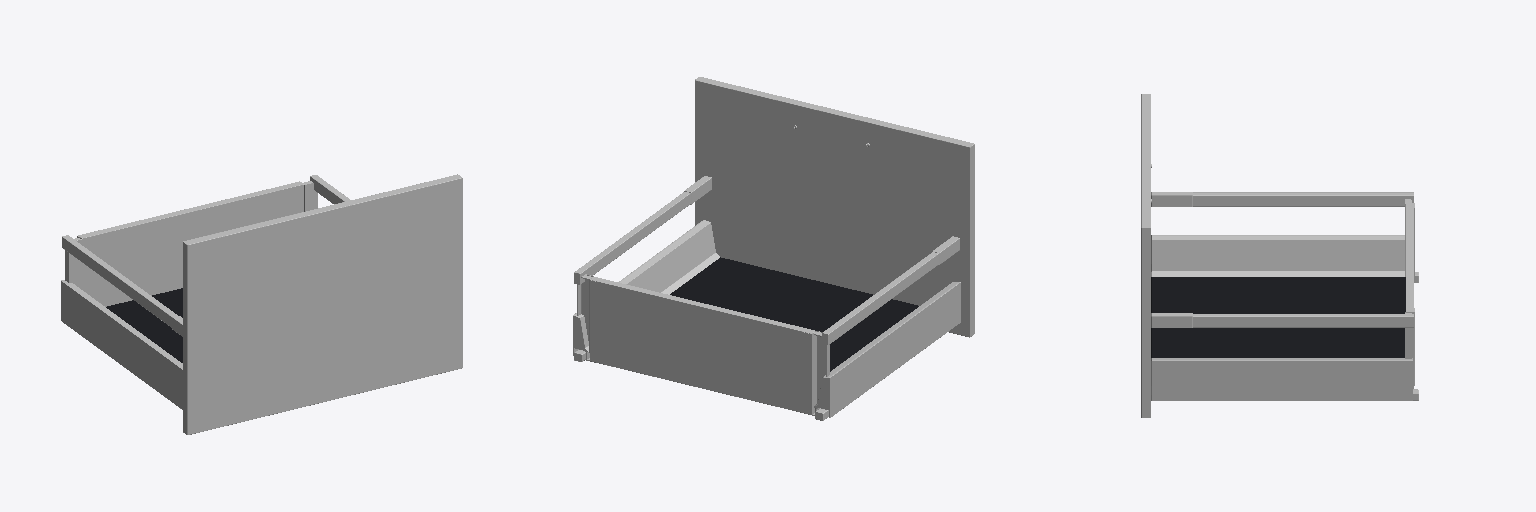
3 views of the same model, side by side, from view 1: azimuth 30°, elevation 25°; view 2: azimuth 150°, elevation 25°; view 3: azimuth 270°, elevation 25° (orthographic).
Parts seen in each view (by area): view 1: SM_Kitchen_01_Drawer_02_24; view 2: SM_Kitchen_01_Drawer_02_24; view 3: SM_Kitchen_01_Drawer_02_24.
Boxes of the visible parts, <box> form: SM_Kitchen_01_Drawer_02_24: <box>61,174,462,434</box>; SM_Kitchen_01_Drawer_02_24: <box>573,77,974,420</box>; SM_Kitchen_01_Drawer_02_24: <box>1141,94,1418,417</box>.
Size of the model in its own units: 59.69 by 39.43 by 51.99.
Materials: 4 (1 with a texture image).